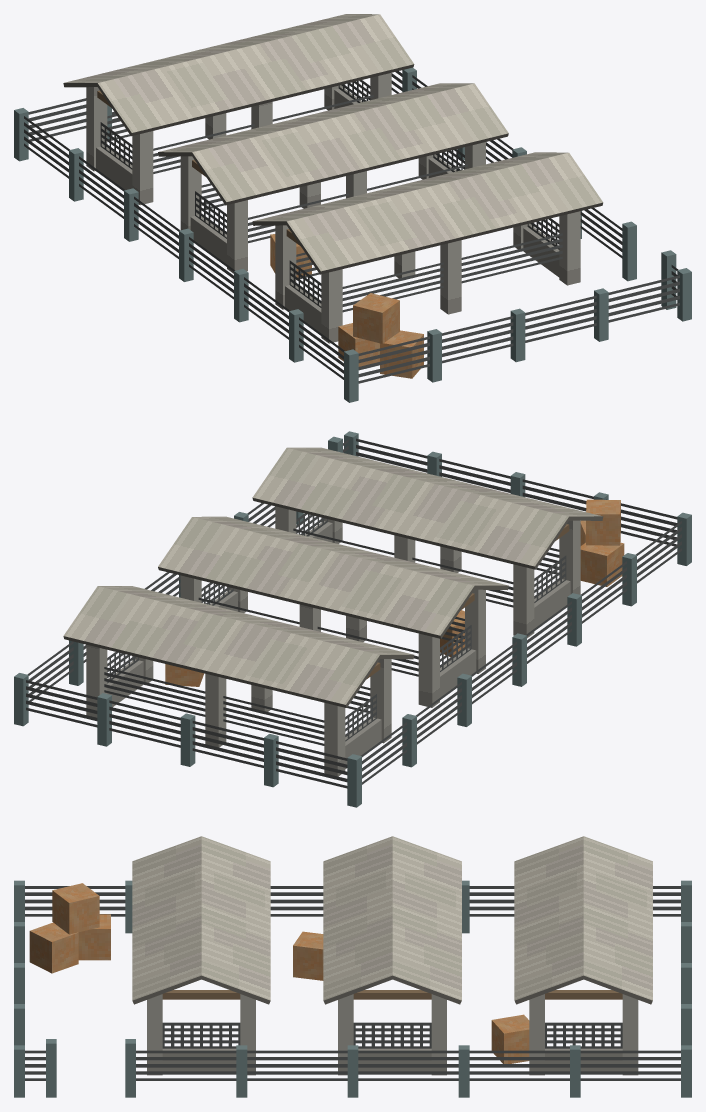
The model's file is Universal_Building_Farm_L1_01_Mod.fbx.
3 renders of one model, top to bottom at view 1: azimuth 30°, elevation 25°; view 2: azimuth 150°, elevation 25°; view 3: azimuth 270°, elevation 25°, orthographic.
Visible parts, largest first — view 1: Universal_Building_Farm_L1_01_Mod; view 2: Universal_Building_Farm_L1_01_Mod; view 3: Universal_Building_Farm_L1_01_Mod.
Part boxes in pixels (box(x1,y1,x2,y2)): Universal_Building_Farm_L1_01_Mod: box(14, 14, 691, 402); Universal_Building_Farm_L1_01_Mod: box(14, 431, 691, 807); Universal_Building_Farm_L1_01_Mod: box(14, 836, 691, 1097).
Size of the model in its own units: 1151 by 341 by 1951.
